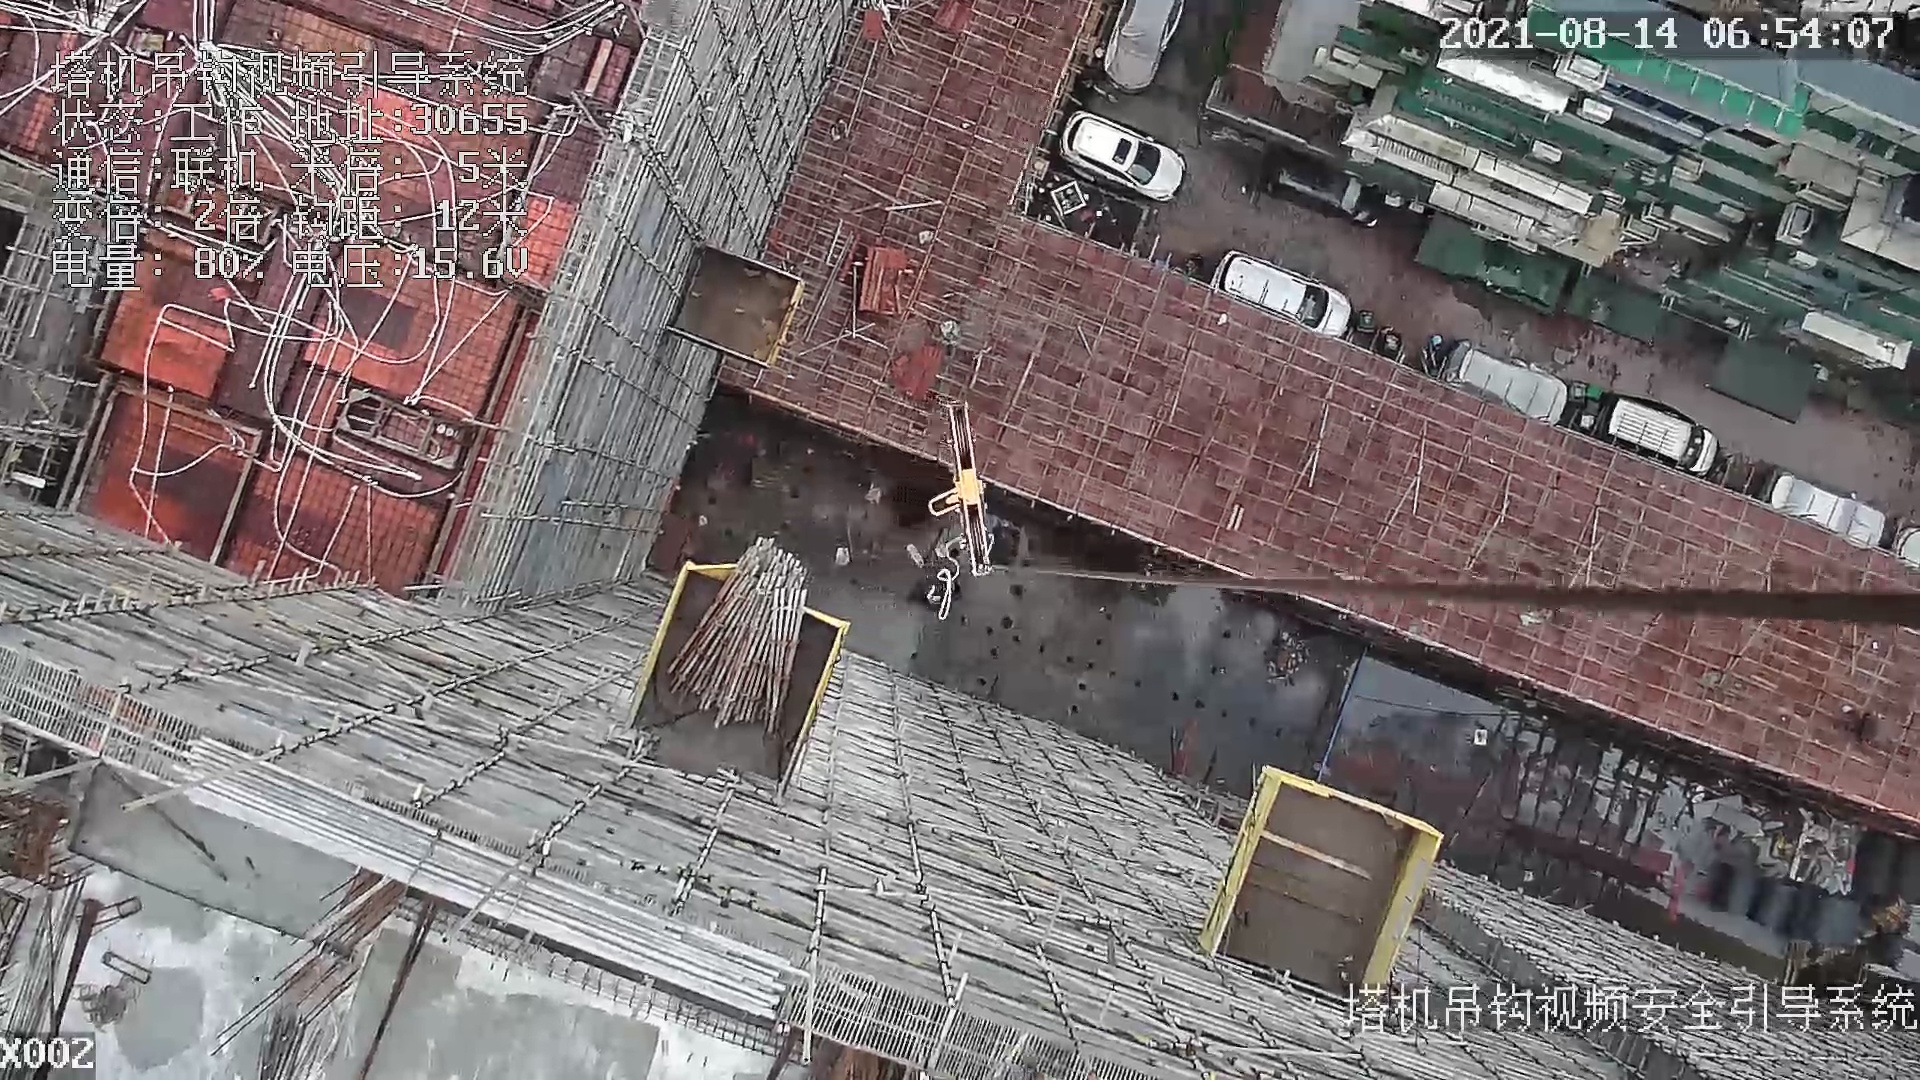hook: (928, 396, 1000, 576)
rebar: (175, 733, 789, 1015)
scaffold: (665, 535, 808, 735)
